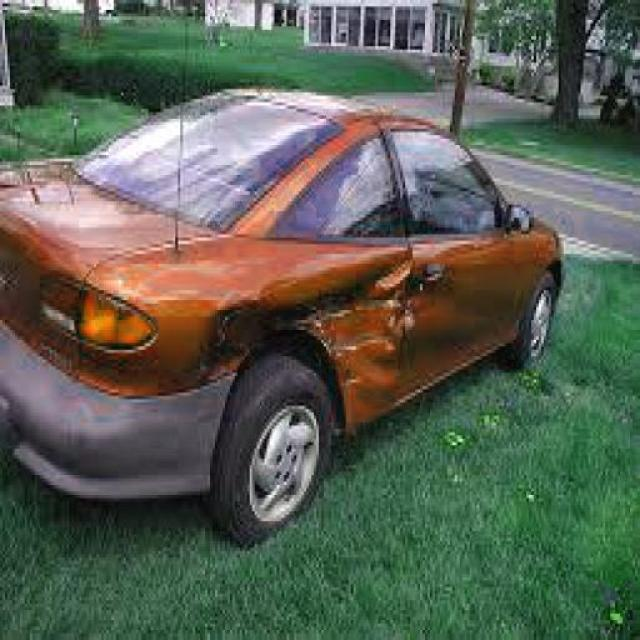Car-Damage: (127, 240, 418, 448)
